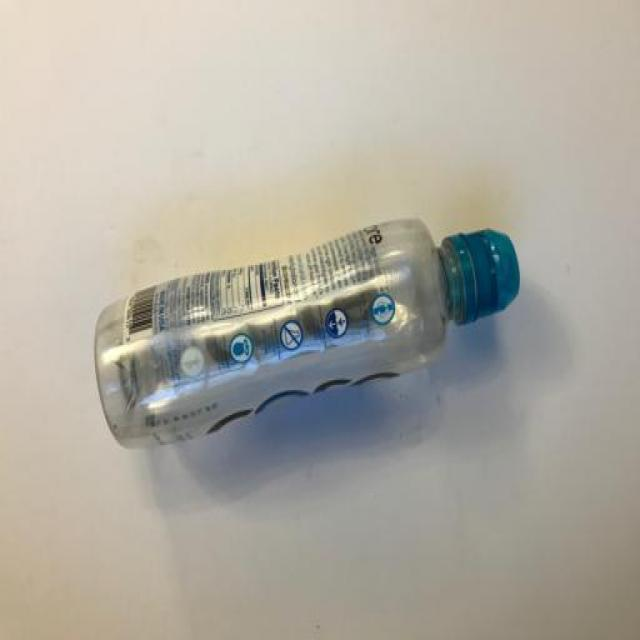plastic_bottle: (87, 189, 574, 460)
